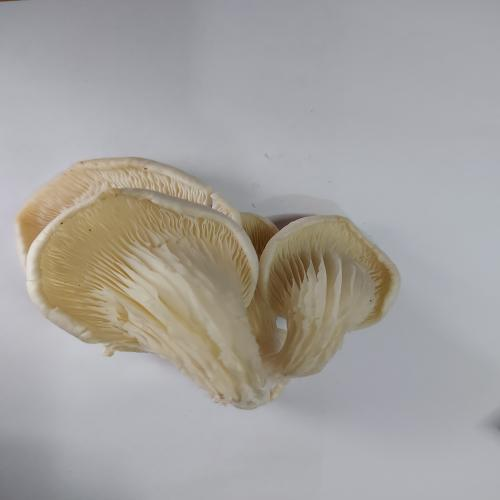Oyster Mushroom: (17, 156, 402, 410)
